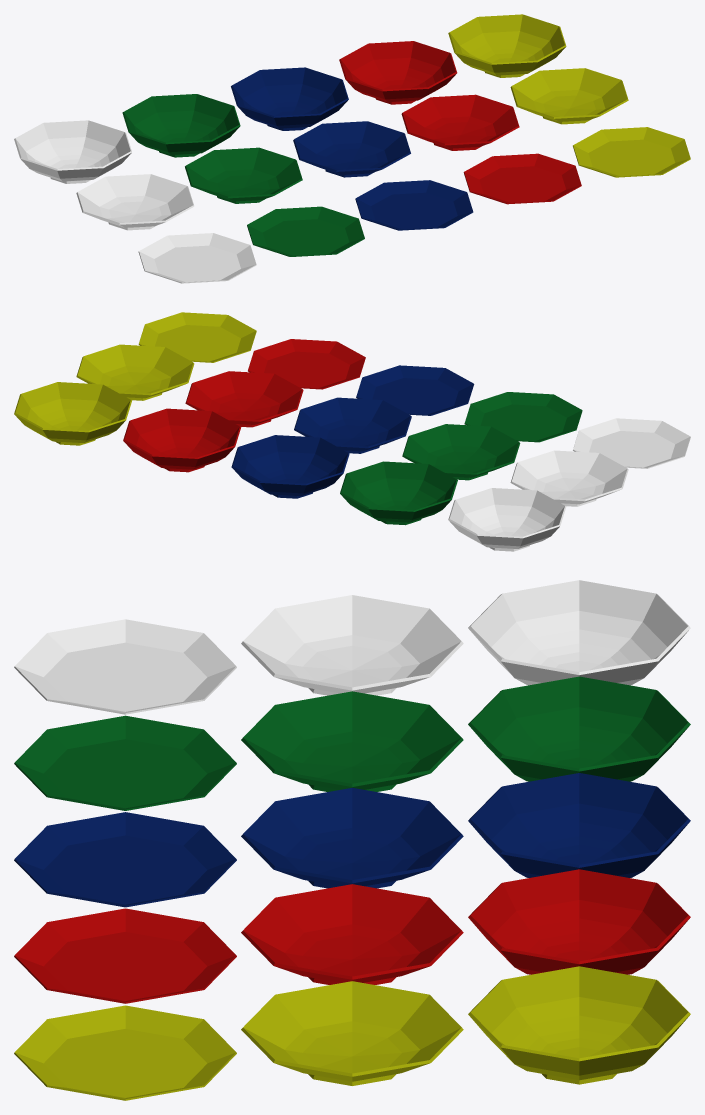
Rendered from Low_Poly_Plate_Collection_3D.fbx.
3 renders of one model, top to bottom at view 1: azimuth 30°, elevation 25°; view 2: azimuth 150°, elevation 25°; view 3: azimuth 270°, elevation 25°, orthographic. The views are drawn at different scales.
Visible parts, largest first — view 1: Plate A4, Plate A2, Plate A3, Plate A1, Plate A5, Plate B3, Plate B5, Plate B1, Plate B2, Plate B4, Plate C3, Plate C1 (+3 smaller); view 2: Plate A4, Plate A1, Plate A3, Plate A5, Plate A2, Plate B5, Plate B1, Plate B2, Plate B3, Plate B4, Plate C4, Plate C1 (+3 smaller); view 3: Plate A5, Plate A4, Plate A2, Plate A3, Plate A1, Plate B5, Plate B4, Plate B1, Plate B3, Plate B2, Plate C3, Plate C1 (+3 smaller).
Boxes of the visible parts, left/top/right/bottom form: Plate A4: left=339, top=41, right=457, bottom=104; Plate A2: left=122, top=94, right=240, bottom=157; Plate A3: left=231, top=67, right=348, bottom=130; Plate A1: left=14, top=120, right=131, bottom=183; Plate A5: left=448, top=14, right=566, bottom=77; Plate B3: left=293, top=121, right=410, bottom=177; Plate B5: left=510, top=68, right=628, bottom=124; Plate B1: left=76, top=174, right=194, bottom=230; Plate B2: left=185, top=147, right=302, bottom=203; Plate B4: left=401, top=94, right=519, bottom=150; Plate C3: left=355, top=180, right=473, bottom=230; Plate C1: left=138, top=233, right=256, bottom=283; Plate A4: left=123, top=408, right=241, bottom=472; Plate A1: left=448, top=488, right=566, bottom=551; Plate A3: left=231, top=435, right=349, bottom=498; Plate A5: left=14, top=382, right=131, bottom=445; Plate A2: left=340, top=461, right=457, bottom=525; Plate B5: left=76, top=344, right=194, bottom=400; Plate B1: left=510, top=450, right=628, bottom=506; Plate B2: left=402, top=424, right=520, bottom=480; Plate B3: left=294, top=397, right=411, bottom=453; Plate B4: left=185, top=371, right=303, bottom=427; Plate C4: left=248, top=339, right=365, bottom=389; Plate C1: left=573, top=418, right=690, bottom=468; Plate A5: left=468, top=966, right=690, bottom=1084; Plate A4: left=468, top=869, right=690, bottom=974; Plate A2: left=468, top=676, right=690, bottom=781; Plate A3: left=468, top=773, right=690, bottom=877; Plate A1: left=468, top=580, right=690, bottom=685; Plate B5: left=241, top=981, right=463, bottom=1085; Plate B4: left=241, top=884, right=463, bottom=984; Plate B1: left=241, top=595, right=463, bottom=695; Plate B3: left=241, top=787, right=463, bottom=888; Plate B2: left=241, top=691, right=463, bottom=791; Plate C3: left=14, top=812, right=236, bottom=907; Plate C1: left=14, top=619, right=236, bottom=714.
Size of the model in its own units: 102 by 5.2 by 60.69.
